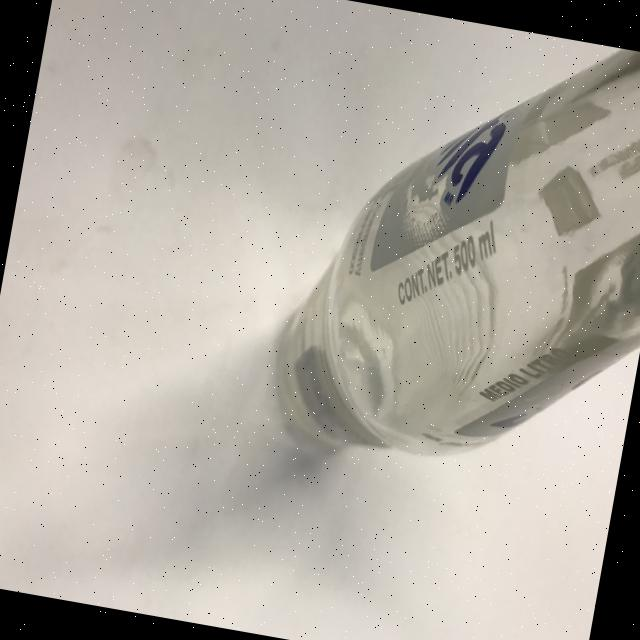glass: (258, 0, 640, 500)
